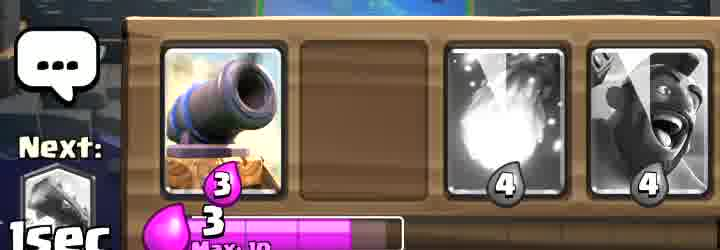cannon: (174, 50, 285, 192)
hog-rider: (585, 62, 681, 203)
